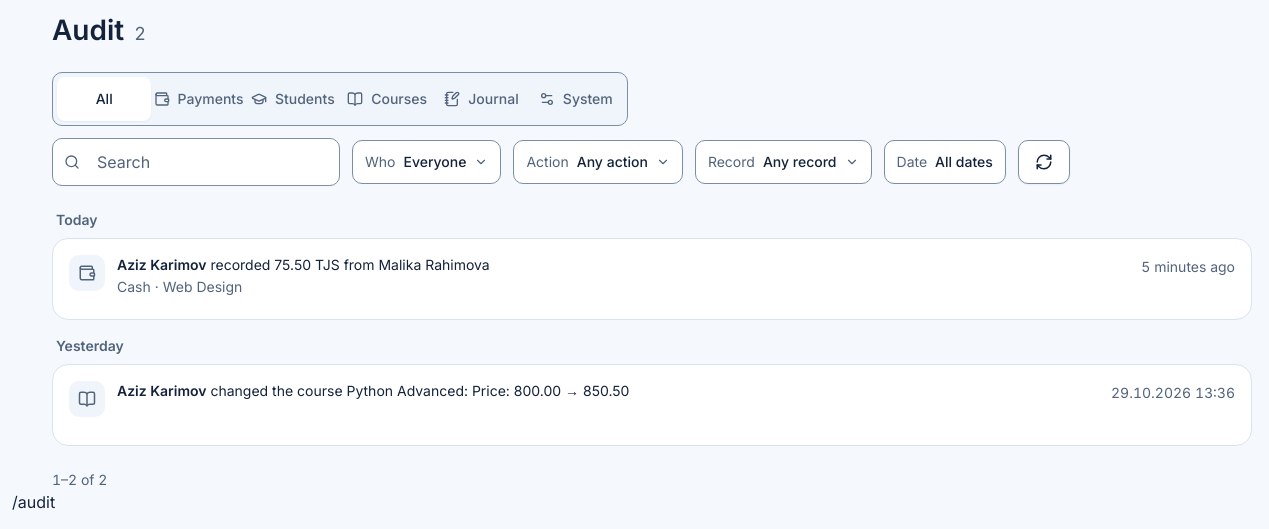
Test: Audit server filters › searches across the server instead of filtering the loaded page
The width and height of the screenshot is (1269, 529).
Check: the text "Aziz Karimov recorded 75.50 TJS from Malika Rahimova" is shown, box top-left (117, 256), bottom-right (490, 273)
Type "zzz-not-on-this-page" into the search field at (196, 162), box top-left (52, 138), bottom-right (340, 186)
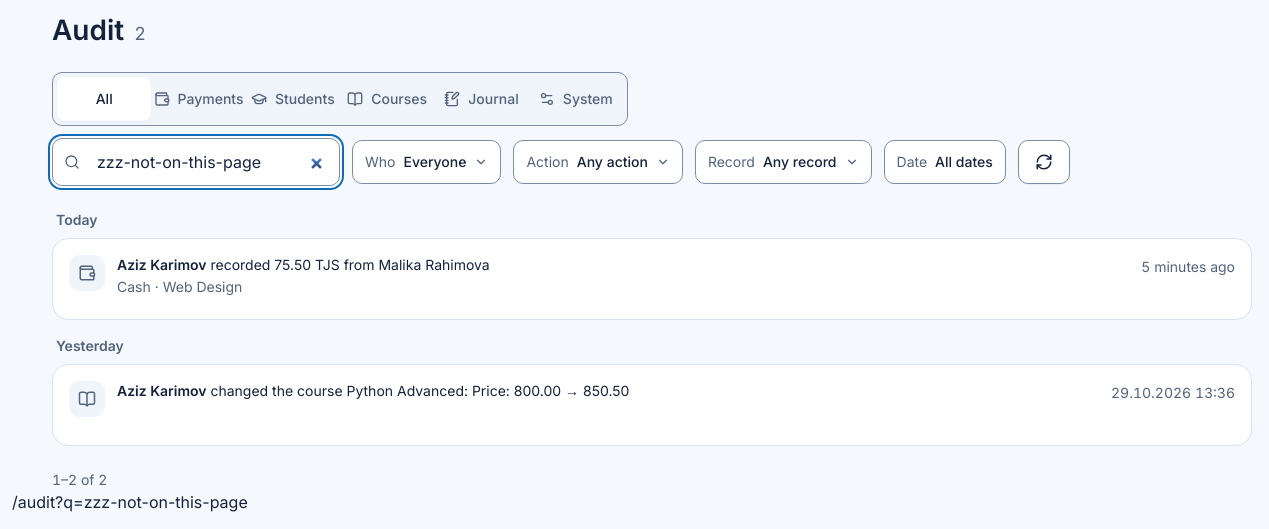
Check: the text with test id "location" reads "/audit?q=zzz-not-on-this-page", box top-left (12, 492), bottom-right (248, 512)
